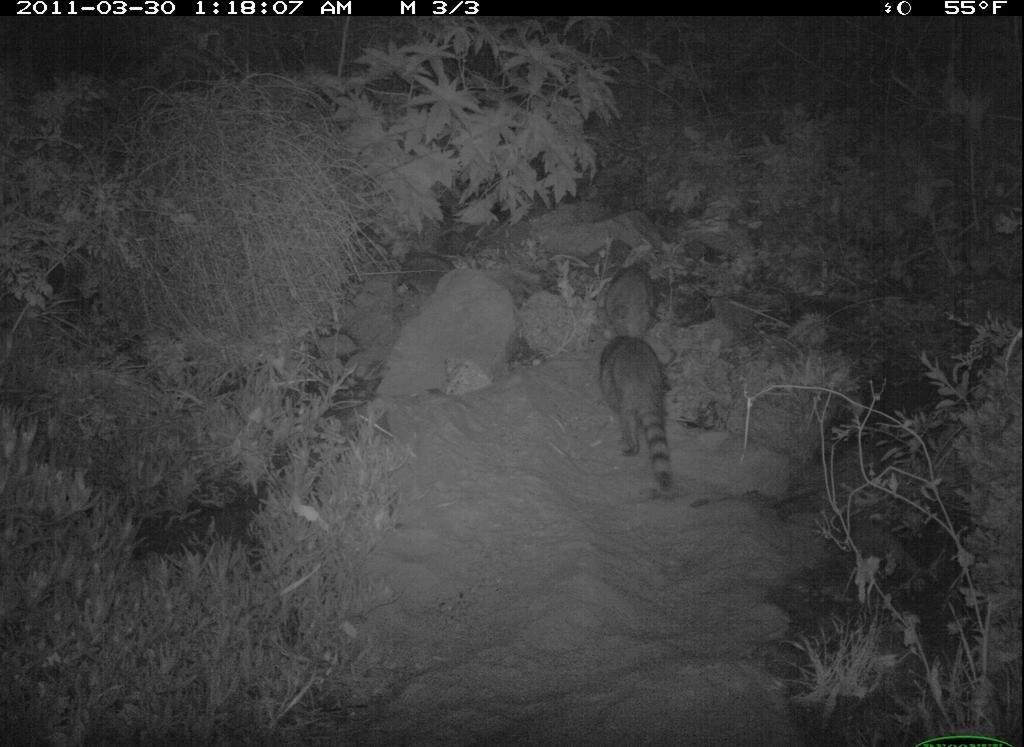raccoon: (593, 339, 688, 499), (605, 263, 662, 340)
